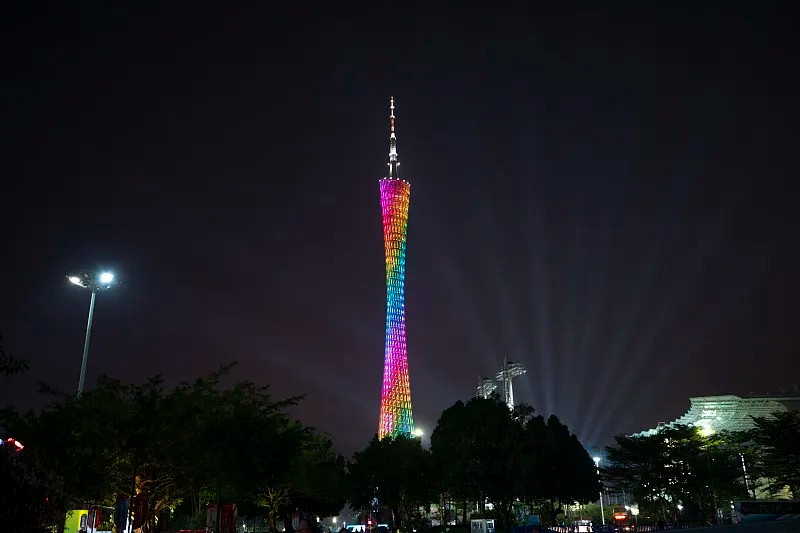Canton: (376, 95, 416, 441)
